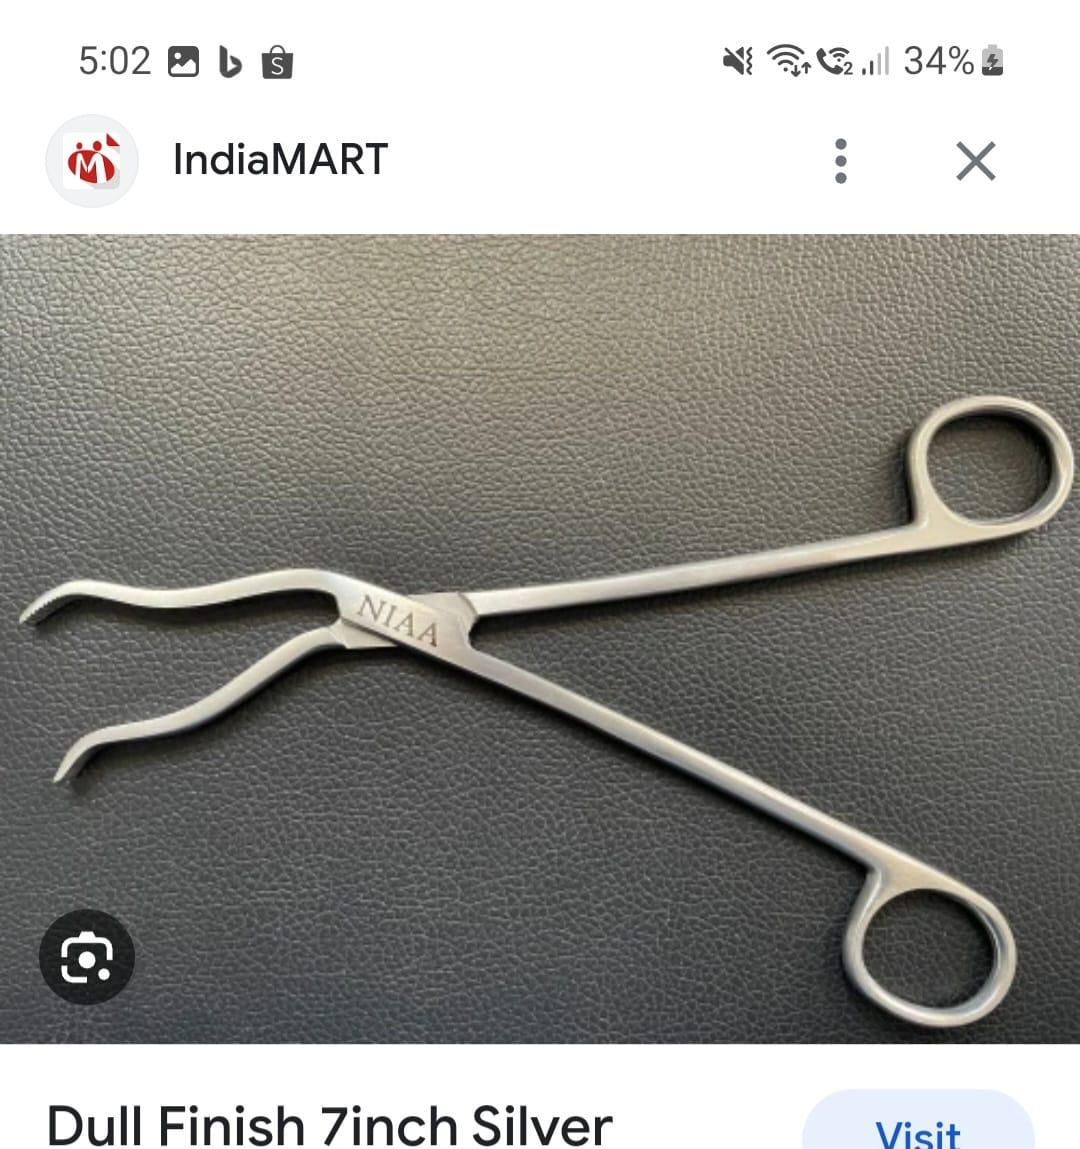Cheatle Forceps: (26, 390, 1062, 1036)
